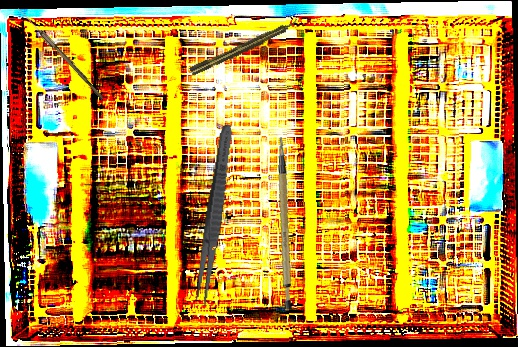Dressing Forceps: (192, 123, 237, 308)
Handpiece: (188, 17, 301, 77)
Scalpel Handle: (261, 136, 312, 310)
Surgical Spoon: (14, 5, 107, 101)
